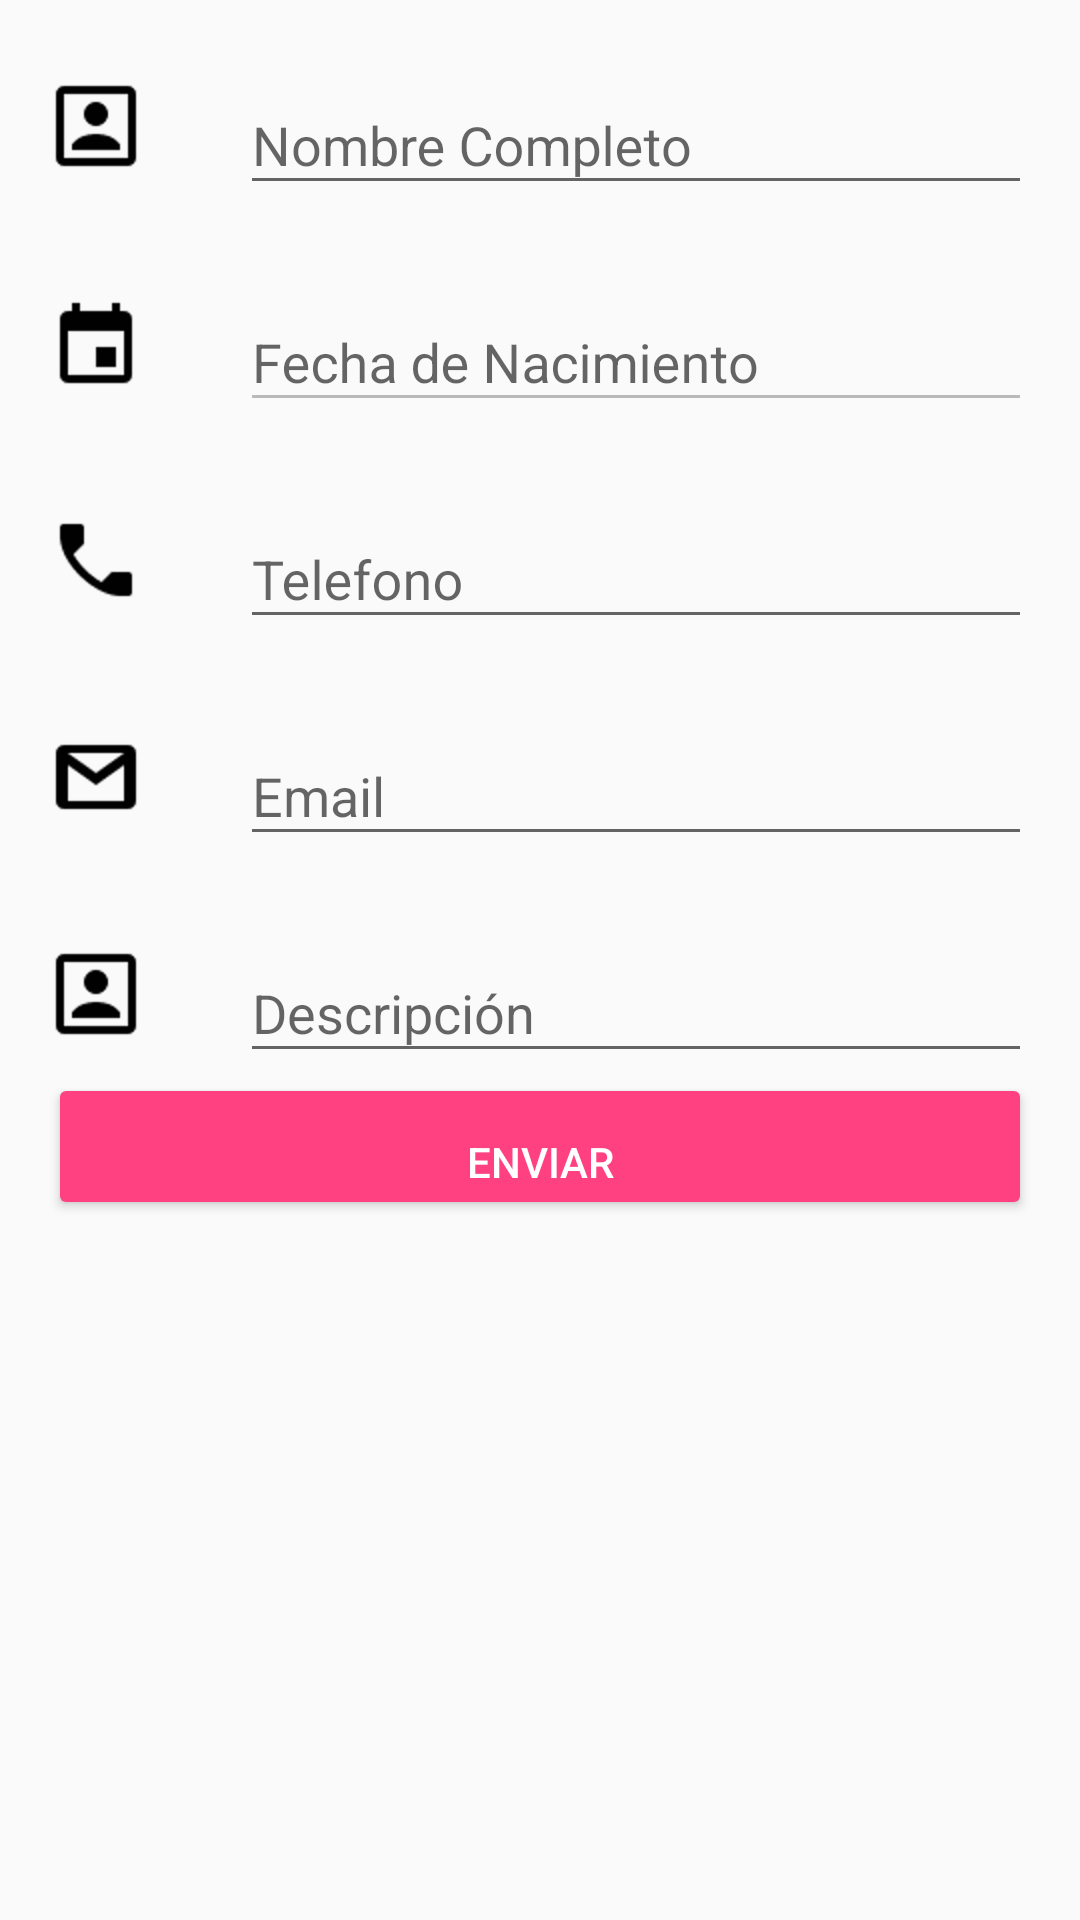

Named icons in this screenshot (1080x1920) and their bounding boxes, box(x1, y1, x2, y2):
calendario: box(59, 302, 133, 384)
gmail: box(55, 744, 137, 810)
tel fono: box(59, 523, 133, 597)
